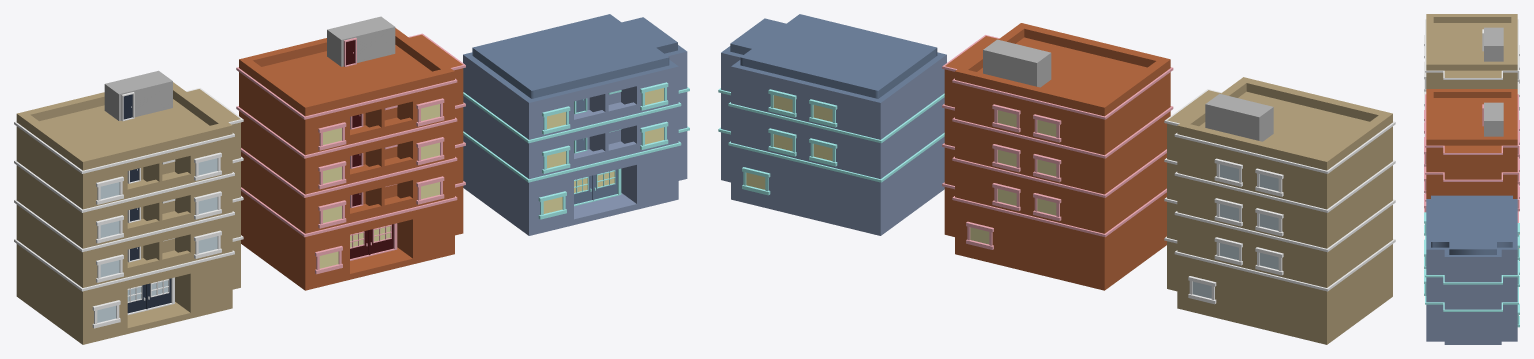
File: APARTMENT PACK .fbx
The picture shows the model from 3 angles, left to right: view 1: azimuth 30°, elevation 25°; view 2: azimuth 150°, elevation 25°; view 3: azimuth 270°, elevation 25°; orthographic projection. The views are drawn at different scales.
Parts seen in each view (by area): view 1: pCube75, pCube75.001, pCube75.002; view 2: pCube75, pCube75.001, pCube75.002; view 3: pCube75.002, pCube75.001, pCube75.
Part boxes in pixels (<box>): pCube75: <box>14,70,243,344</box>; pCube75.001: <box>236,16,465,290</box>; pCube75.002: <box>463,14,689,235</box>; pCube75: <box>1164,77,1395,344</box>; pCube75.001: <box>942,23,1173,290</box>; pCube75.002: <box>718,14,946,235</box>; pCube75.002: <box>1424,195,1519,344</box>; pCube75.001: <box>1424,89,1519,248</box>; pCube75: <box>1424,14,1519,172</box>.
Bounding box in the file's own units: 3889 × 1204 × 752.
